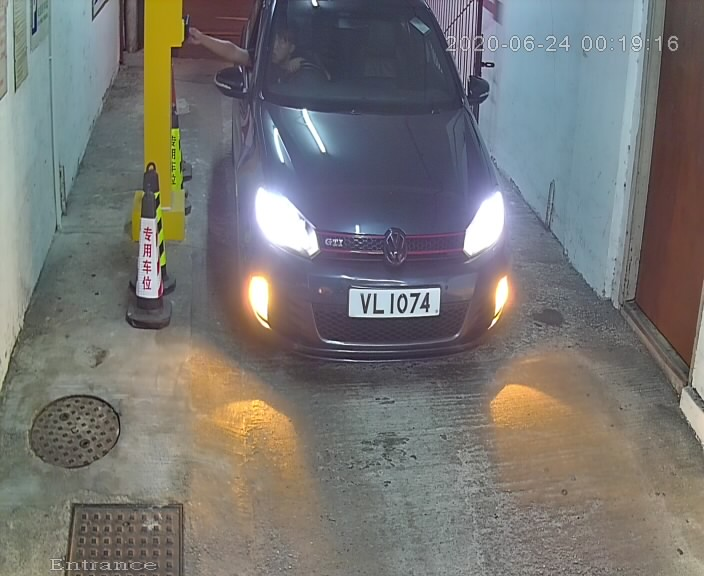privatecar: (206, 1, 520, 378)
